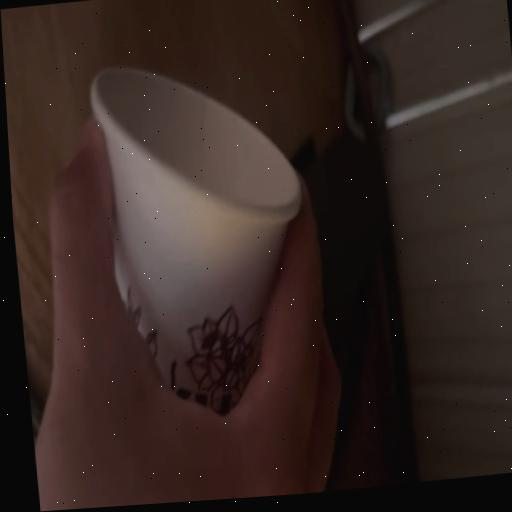Ly_giay: (90, 68, 299, 412)
